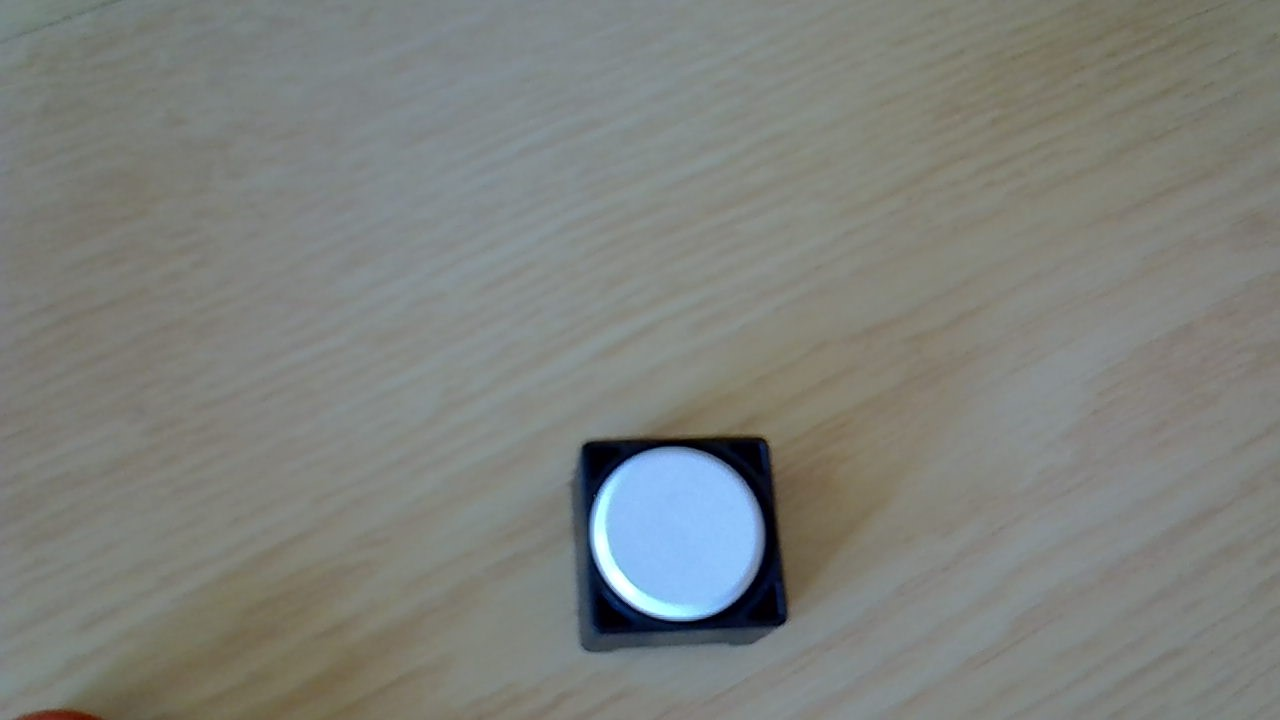Behaelter: (566, 440, 789, 651)
WerkStueck: (591, 445, 766, 623)
